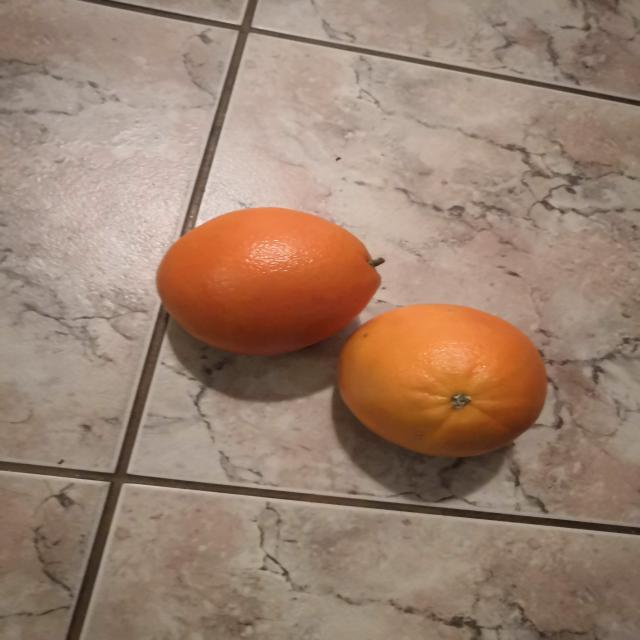orange: (157, 208, 380, 355), (338, 304, 547, 458)
